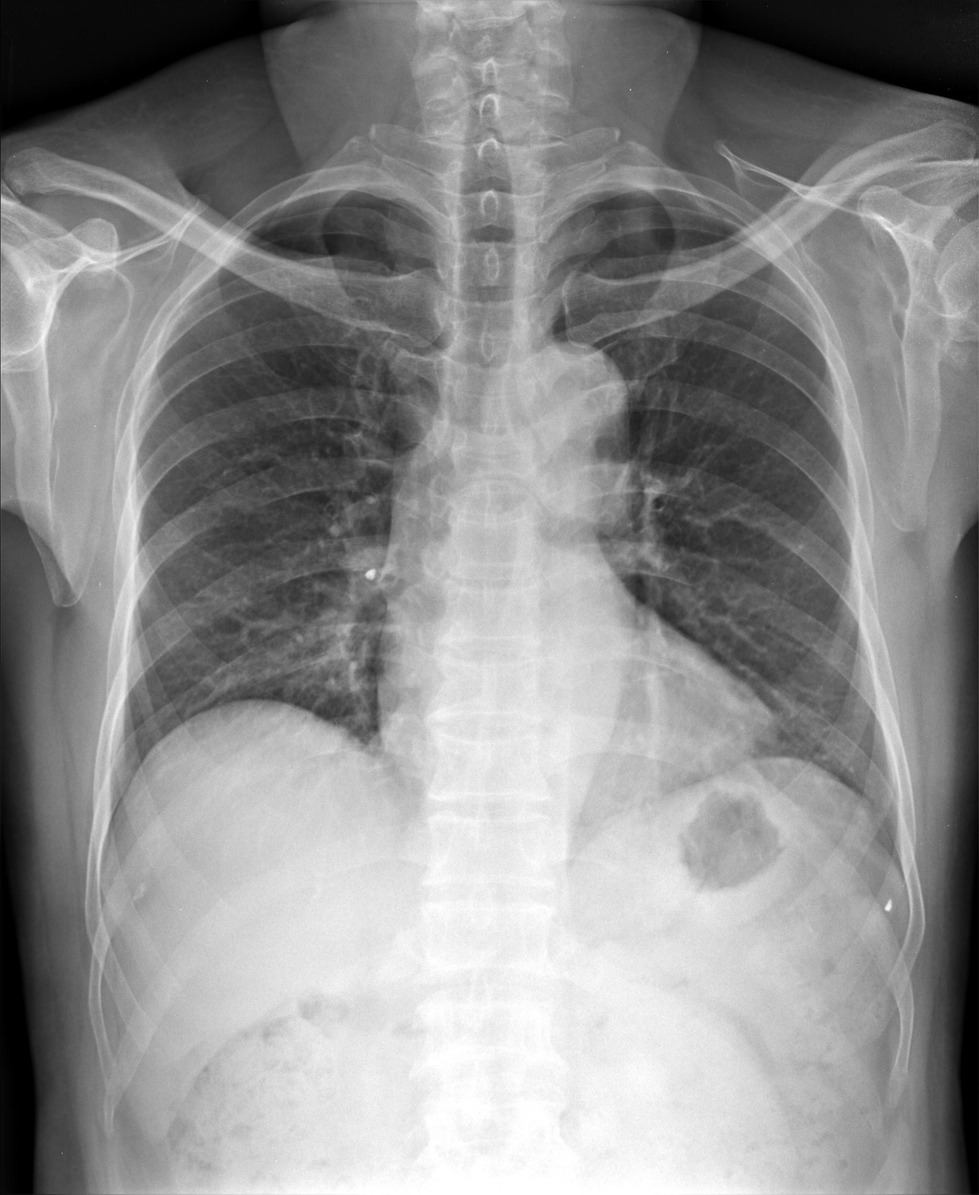Aortic enlargement: (505, 337, 633, 458)
Cardiomegaly: (368, 679, 796, 801)
